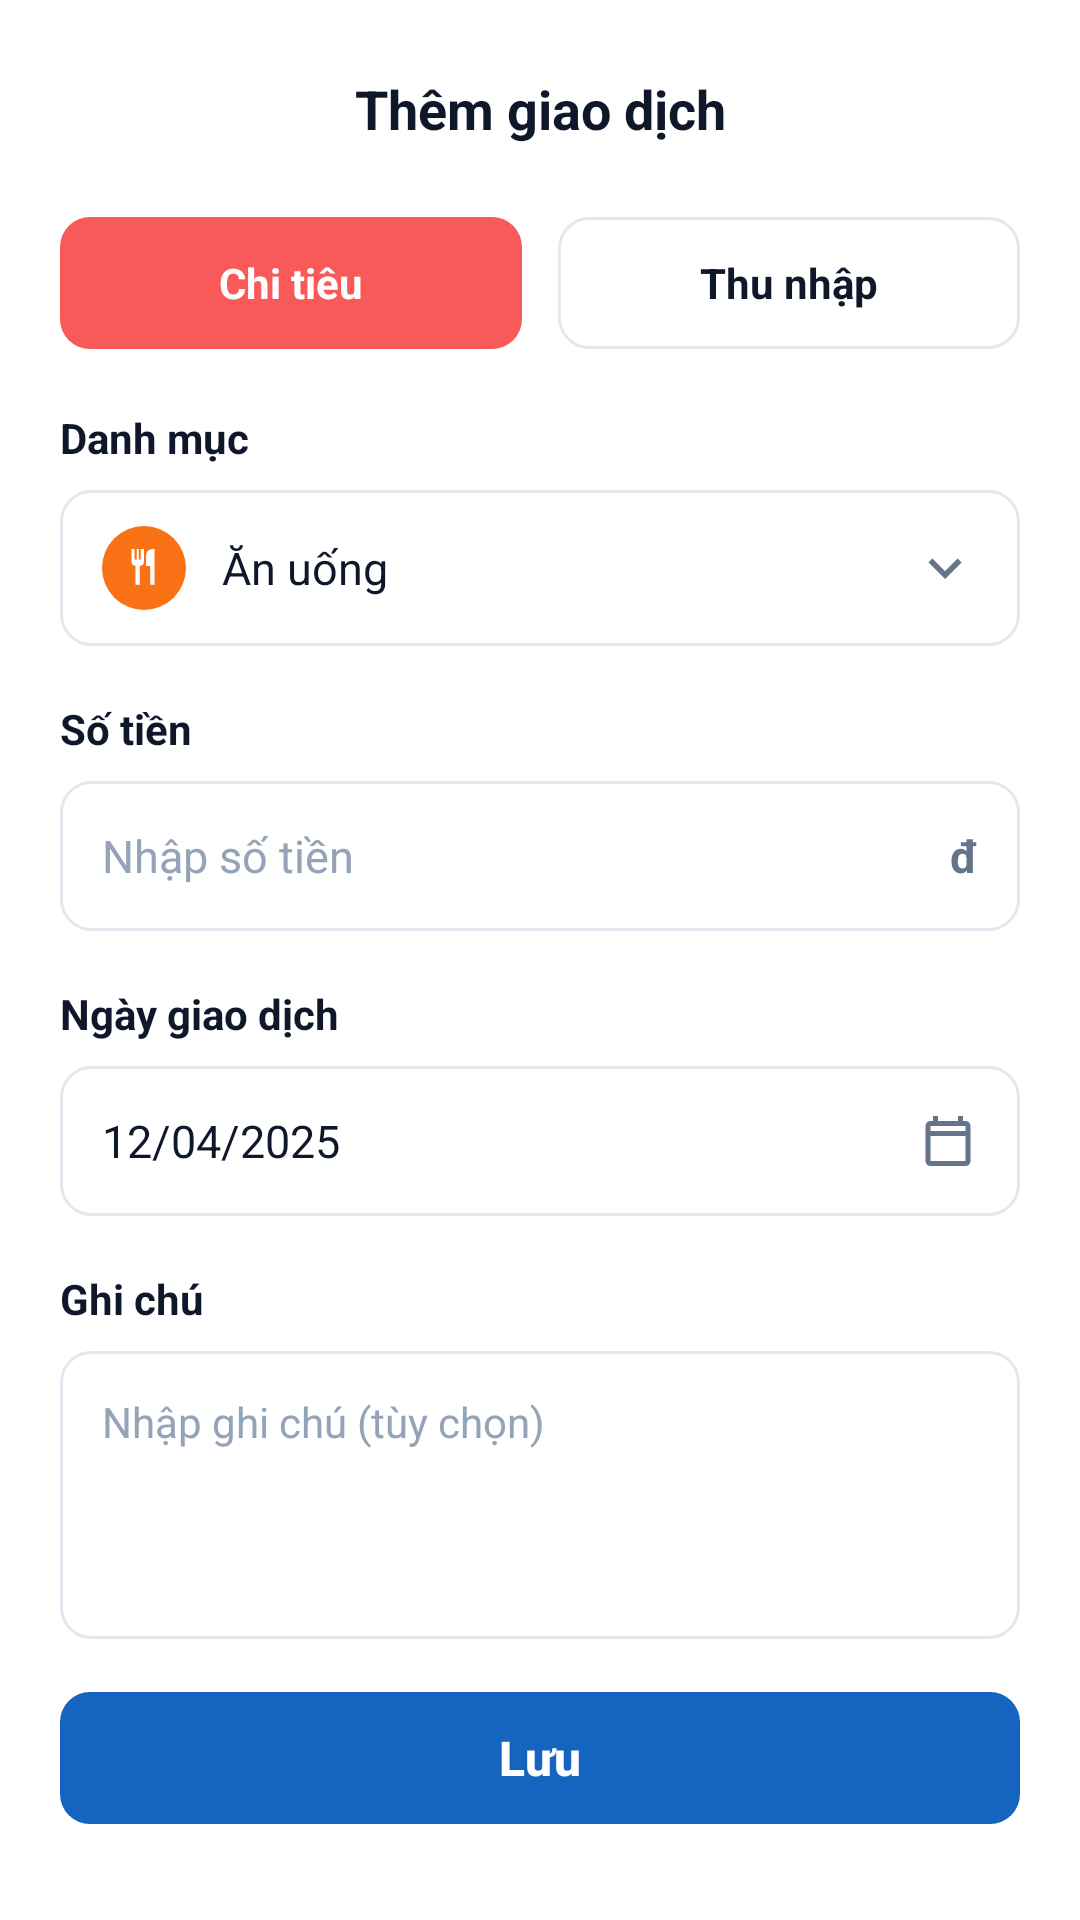

Point at icon controls on the screen. Image size 1080w x 1920h, points as point (x, y).
Chọn danh mục: point (945, 568)
Chọn ngày: point (948, 1141)
